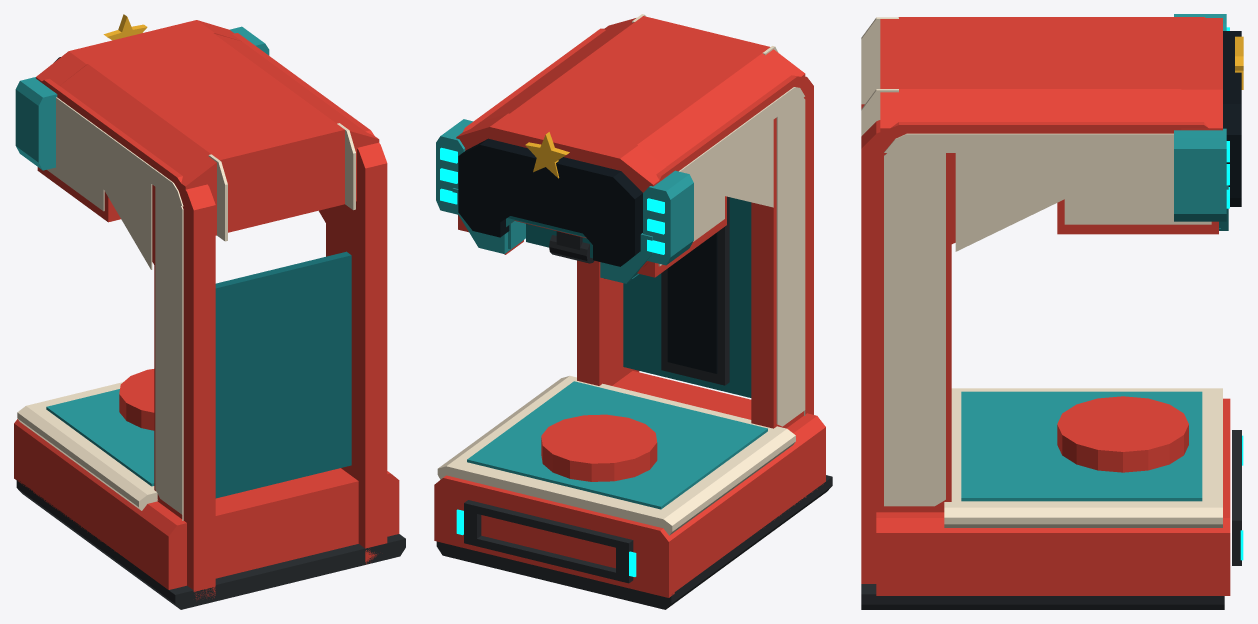
File: machine-body.glb
3 views of the same model, side by side, from view 1: azimuth 30°, elevation 25°; view 2: azimuth 150°, elevation 25°; view 3: azimuth 270°, elevation 25° (orthographic). The views are drawn at different scales.
Visible parts, largest first — view 1: MachineBody, MachineBody_TopBridge, MachineBody_InnerBackPanel, MachineBody_Base, MachineBody_BasePlinth, MachineBody_BaseTopTeal, MachineBody_BaseRim, MachineBody_LeftLightHousing, MachineBody_MarqueeShell, Button_Top, MachineBody_RearRoofCap; view 2: MachineBody, MachineBody_TopBridge, MachineBody_BaseTopTeal, TopScoreDisplay, MachineBody_Base, MachineBody_FrontConsole, MachineBody_BaseRim, MachineBody_InnerBackPanel, Button_Top, CenterMeter_Surface, MachineBody_MarqueeShell, MachineBody_BasePlinth (+11 smaller); view 3: MachineBody, MachineBody_TopBridge, MachineBody_Base, MachineBody_BaseTopTeal, MachineBody_BaseRim, Button_Top, MachineBody_BasePlinth, MachineBody_RightLightHousing, MachineBody_MarqueeShell, TopScoreDisplay, MachineBody_RearRoofCap, MachineBody_FrontConsole (+1 smaller).
Boxes of the visible parts, bbox=[...] form: MachineBody: bbox=[37, 33, 387, 599]; MachineBody_TopBridge: bbox=[54, 32, 379, 242]; MachineBody_InnerBackPanel: bbox=[215, 251, 351, 498]; MachineBody_Base: bbox=[19, 424, 399, 589]; MachineBody_BasePlinth: bbox=[16, 480, 405, 609]; MachineBody_BaseTopTeal: bbox=[46, 389, 154, 486]; MachineBody_BaseRim: bbox=[17, 382, 157, 510]; MachineBody_LeftLightHousing: bbox=[15, 77, 57, 170]; MachineBody_MarqueeShell: bbox=[36, 20, 241, 91]; Button_Top: bbox=[119, 369, 154, 430]; MachineBody_RearRoofCap: bbox=[208, 123, 355, 241]; MachineBody: bbox=[458, 28, 813, 428]; MachineBody_TopBridge: bbox=[481, 16, 805, 172]; MachineBody_BaseTopTeal: bbox=[467, 381, 767, 509]; TopScoreDisplay: bbox=[458, 138, 642, 266]; MachineBody_Base: bbox=[612, 371, 825, 591]; MachineBody_FrontConsole: bbox=[434, 475, 674, 597]; MachineBody_BaseRim: bbox=[437, 376, 795, 535]; MachineBody_InnerBackPanel: bbox=[623, 197, 751, 397]; Button_Top: bbox=[541, 414, 657, 481]; CenterMeter_Surface: bbox=[667, 232, 717, 373]; MachineBody_MarqueeShell: bbox=[456, 113, 671, 278]; MachineBody_BasePlinth: bbox=[436, 475, 832, 609]; MachineBody: bbox=[861, 17, 1218, 583]; MachineBody_TopBridge: bbox=[880, 19, 1185, 193]; MachineBody_Base: bbox=[876, 512, 1218, 595]; MachineBody_BaseTopTeal: bbox=[961, 391, 1202, 501]; MachineBody_BaseRim: bbox=[944, 388, 1222, 527]; Button_Top: bbox=[1057, 396, 1188, 472]; MachineBody_BasePlinth: bbox=[861, 584, 1224, 609]; MachineBody_RightLightHousing: bbox=[1174, 128, 1226, 221]; MachineBody_MarqueeShell: bbox=[1181, 18, 1222, 130]; TopScoreDisplay: bbox=[1223, 31, 1241, 206]; MachineBody_RearRoofCap: bbox=[861, 17, 898, 136]; MachineBody_FrontConsole: bbox=[1217, 398, 1230, 595].
Bounding box in the file's own units: 1.62 × 3 × 2.03.
